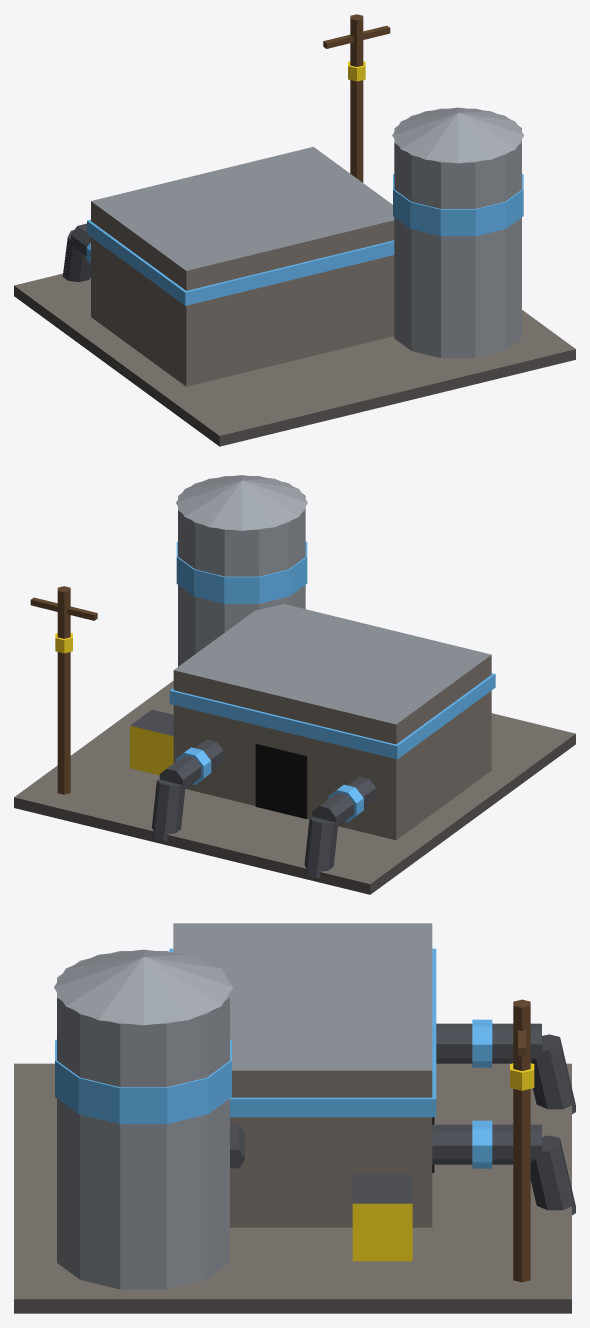
Rendered from pumping_station.glb.
The picture shows the model from 3 angles, top to bottom: view 1: azimuth 30°, elevation 25°; view 2: azimuth 150°, elevation 25°; view 3: azimuth 270°, elevation 25°; orthographic projection. The views are drawn at different scales.
Parts seen in each view (by area): view 1: pumping_station; view 2: pumping_station; view 3: pumping_station.
Part boxes in pixels (left/top/right/bottom): pumping_station: left=14, top=14, right=575, bottom=446; pumping_station: left=14, top=475, right=575, bottom=894; pumping_station: left=14, top=923, right=575, bottom=1313.
Bounding box in the file's own units: 2.8 × 1.72 × 2.82.
